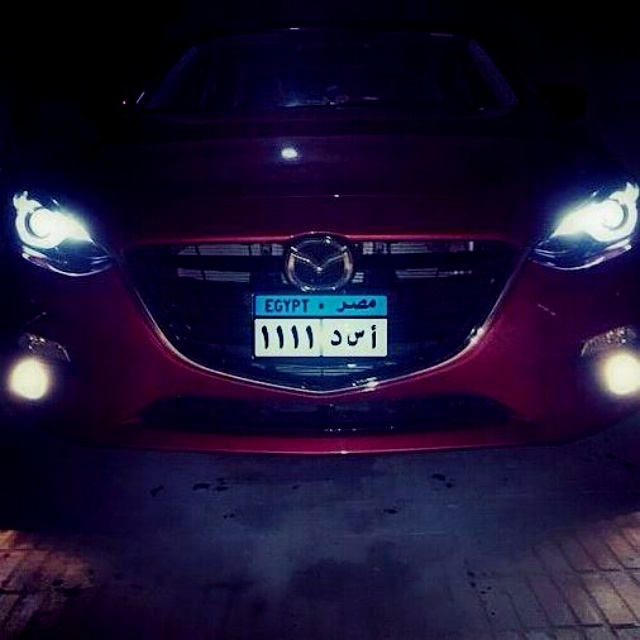License Plate: (249, 290, 388, 359)
